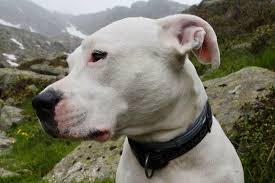dog: (31, 13, 252, 183)
